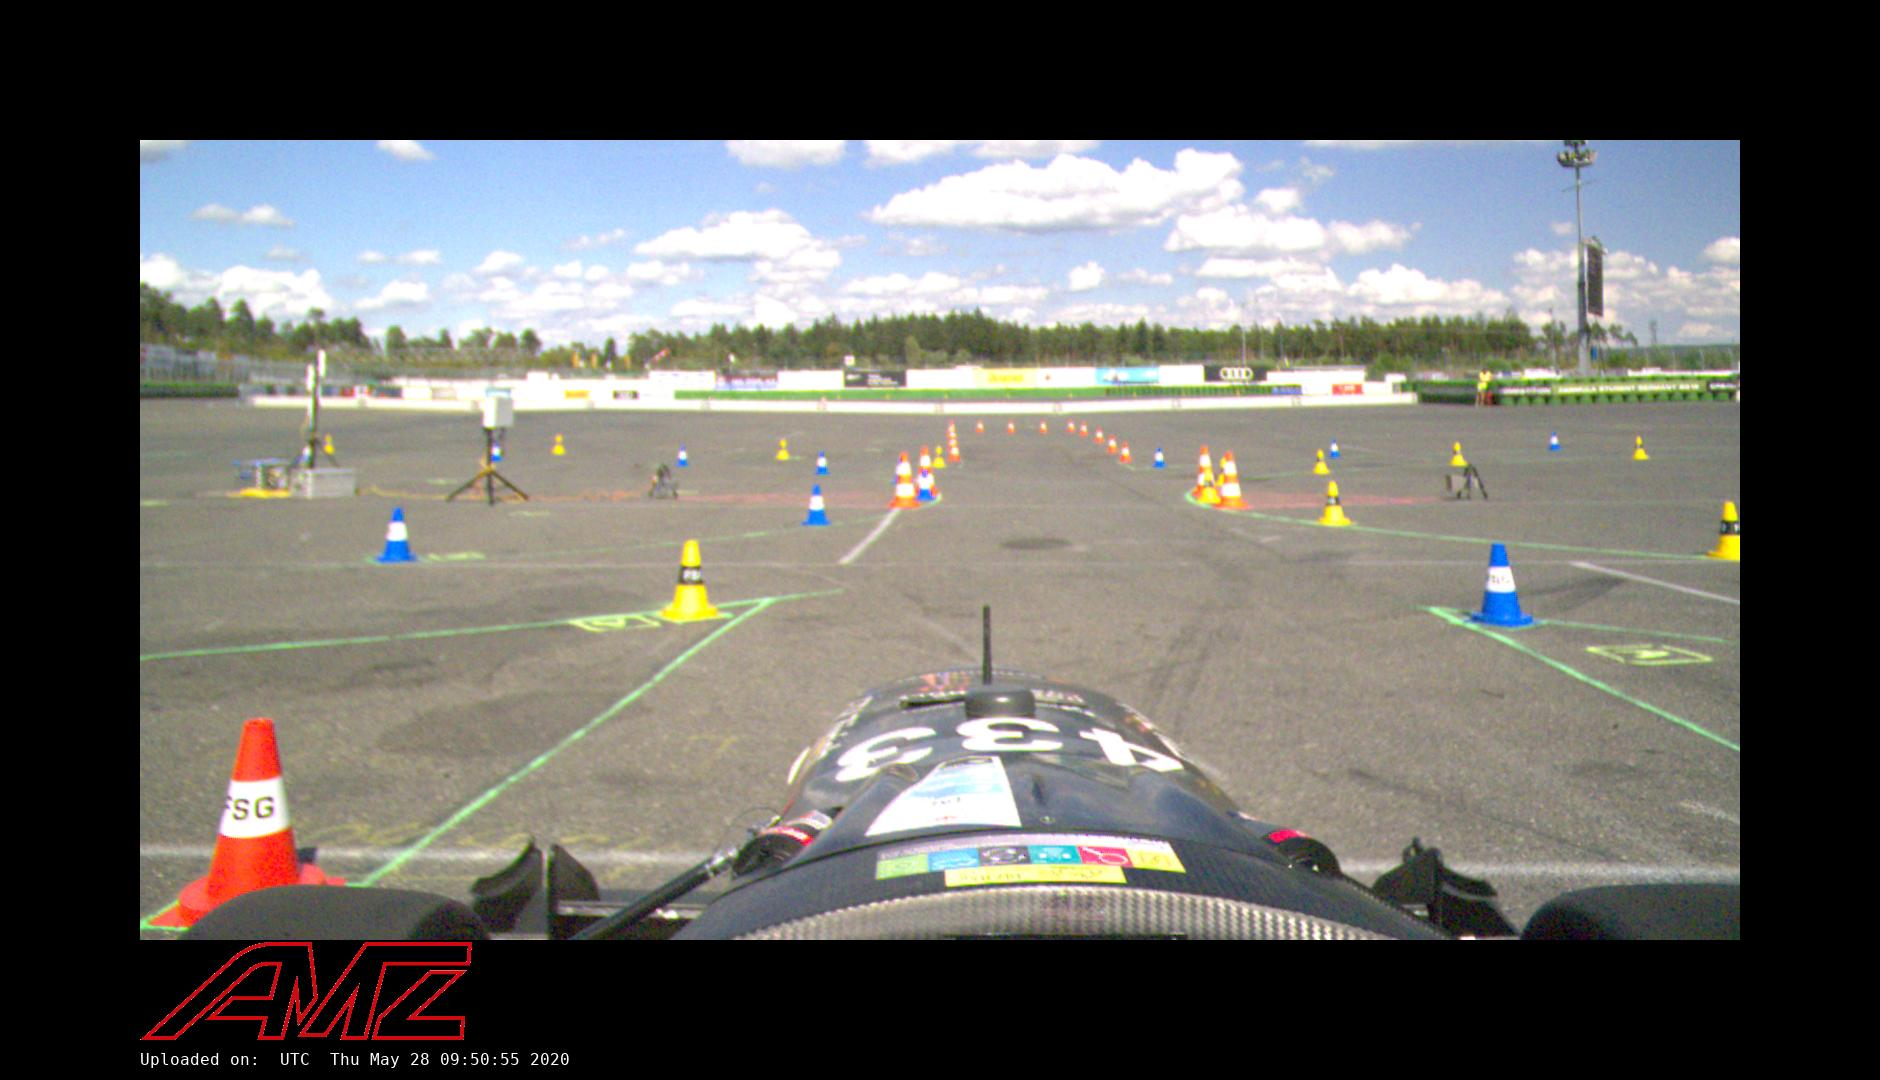blue_cone: (1469, 546, 1532, 625), (372, 509, 414, 563), (801, 484, 830, 527), (915, 468, 934, 505), (1545, 428, 1565, 450), (811, 451, 829, 475), (1152, 446, 1169, 468), (674, 445, 689, 469), (1327, 437, 1342, 459)
large_orange_cone: (1216, 452, 1250, 510), (888, 451, 920, 510), (912, 445, 943, 501), (1192, 442, 1216, 504)
orange_cone: (167, 722, 348, 927), (1119, 442, 1131, 462), (1107, 434, 1118, 454), (1095, 426, 1105, 444), (974, 419, 985, 433), (1006, 419, 1015, 434), (1039, 418, 1047, 434), (1079, 421, 1088, 435), (1067, 418, 1075, 432)
yellow_cone: (659, 541, 722, 623), (1712, 500, 1739, 558), (1318, 481, 1353, 525), (1195, 469, 1218, 502), (1448, 439, 1468, 469), (1629, 435, 1651, 459), (1313, 449, 1331, 475), (774, 439, 792, 460), (933, 444, 948, 469), (550, 435, 565, 454), (322, 432, 333, 452)
